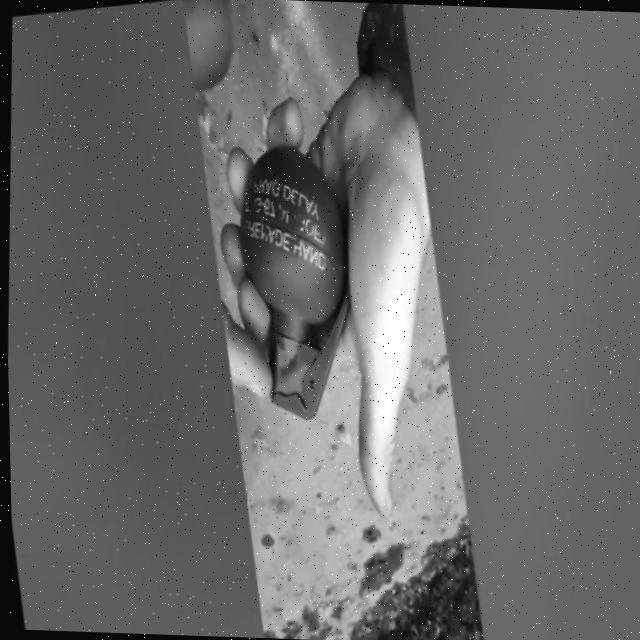grenade: (220, 141, 380, 420)
